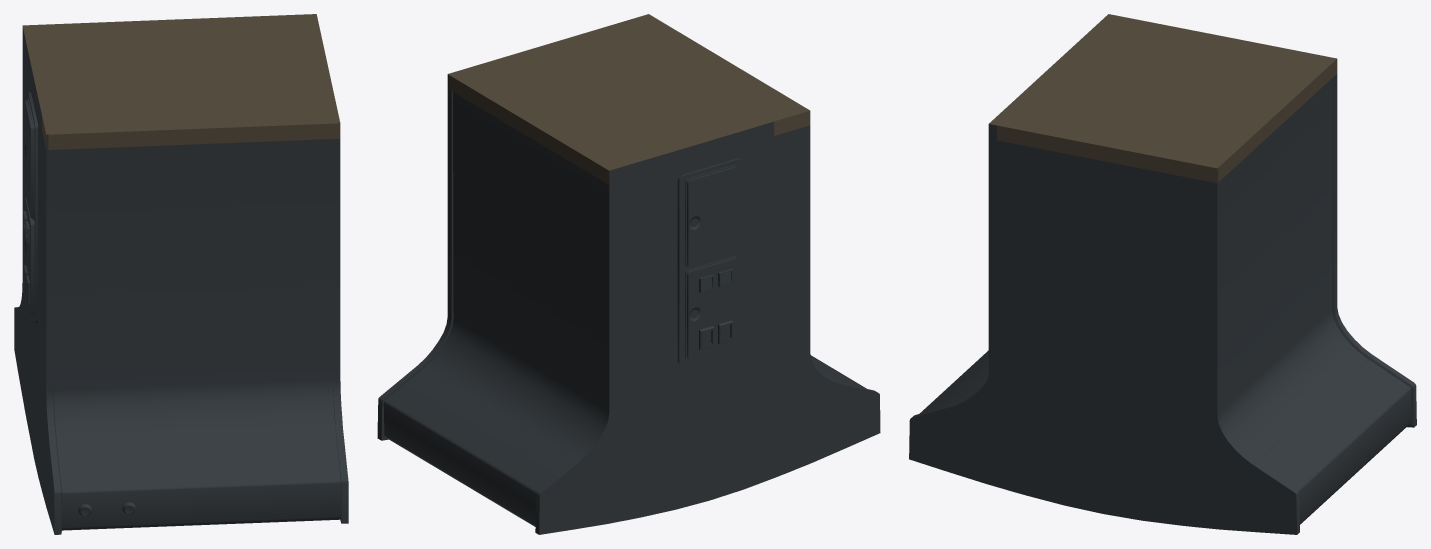
Rendered from ergoflex-game-table.glb.
3 renders of one model, left to right at view 1: azimuth 30°, elevation 25°; view 2: azimuth 150°, elevation 25°; view 3: azimuth 270°, elevation 25°, orthographic. The views are drawn at different scales.
Parts seen in each view (by area): view 1: Mesh_0, Fitted gaming table top; view 2: Mesh_0, Fitted gaming table top; view 3: Mesh_0, Fitted gaming table top.
Part boxes in pixels (<box>): Mesh_0: <box>14,27,348,534</box>; Fitted gaming table top: <box>22,14,340,149</box>; Mesh_0: <box>377,74,880,534</box>; Fitted gaming table top: <box>448,14,810,184</box>; Mesh_0: <box>909,74,1416,534</box>; Fitted gaming table top: <box>989,14,1337,183</box>.
Size of the model in its own units: 0.8002 by 0.74 by 0.9259.
